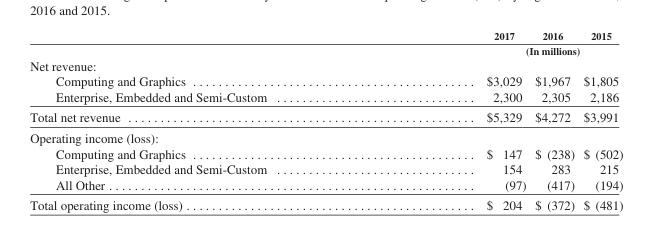table: (29, 29, 622, 212)
table column: (29, 29, 376, 212), (376, 29, 529, 212), (529, 29, 578, 212), (578, 29, 622, 212)
table column header: (29, 29, 622, 57)
table projected row header: (29, 127, 622, 145), (29, 57, 622, 73)
table row: (29, 106, 622, 127), (29, 88, 622, 106), (29, 127, 622, 145), (29, 176, 622, 194), (29, 194, 622, 212), (29, 57, 622, 73), (29, 160, 622, 176), (29, 42, 622, 57), (29, 73, 622, 88), (29, 145, 622, 160), (29, 29, 622, 42)
table spanning cell: (376, 42, 622, 57)
